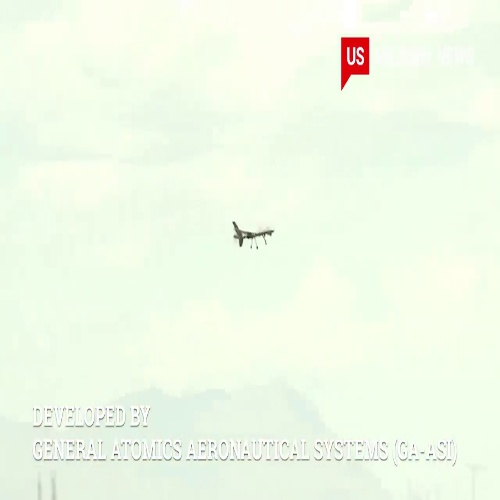uav: (229, 218, 275, 251)
